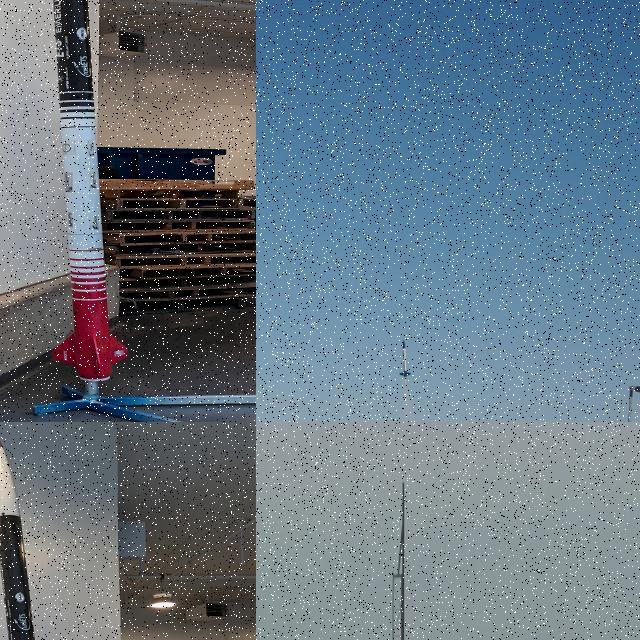Rocket: (53, 0, 128, 381), (0, 440, 35, 640), (398, 340, 412, 377)
